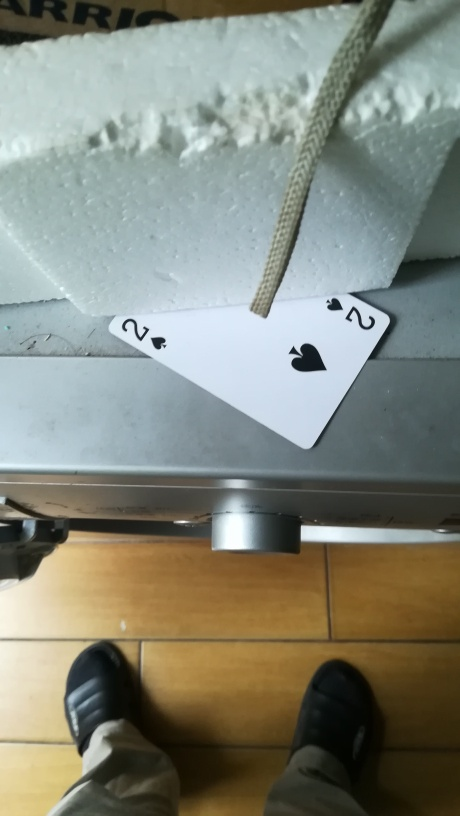ht 2: (111, 255, 392, 449)
